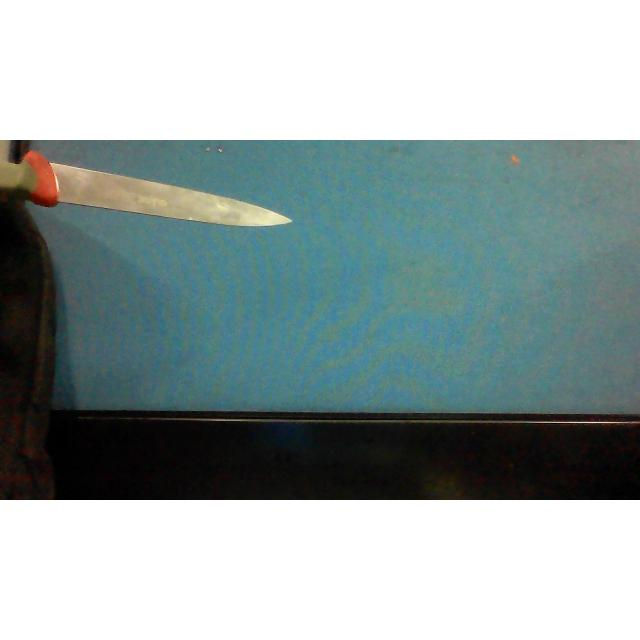Knife: (0, 151, 291, 226)
